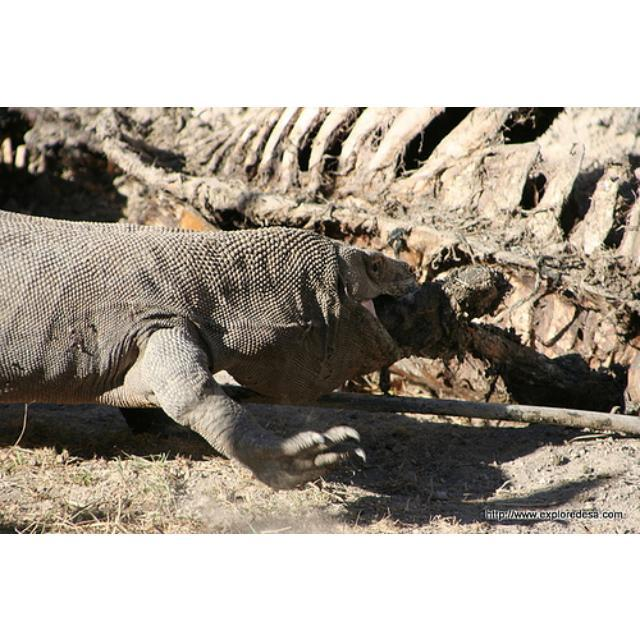KomodoDragon: (0, 205, 418, 491)
